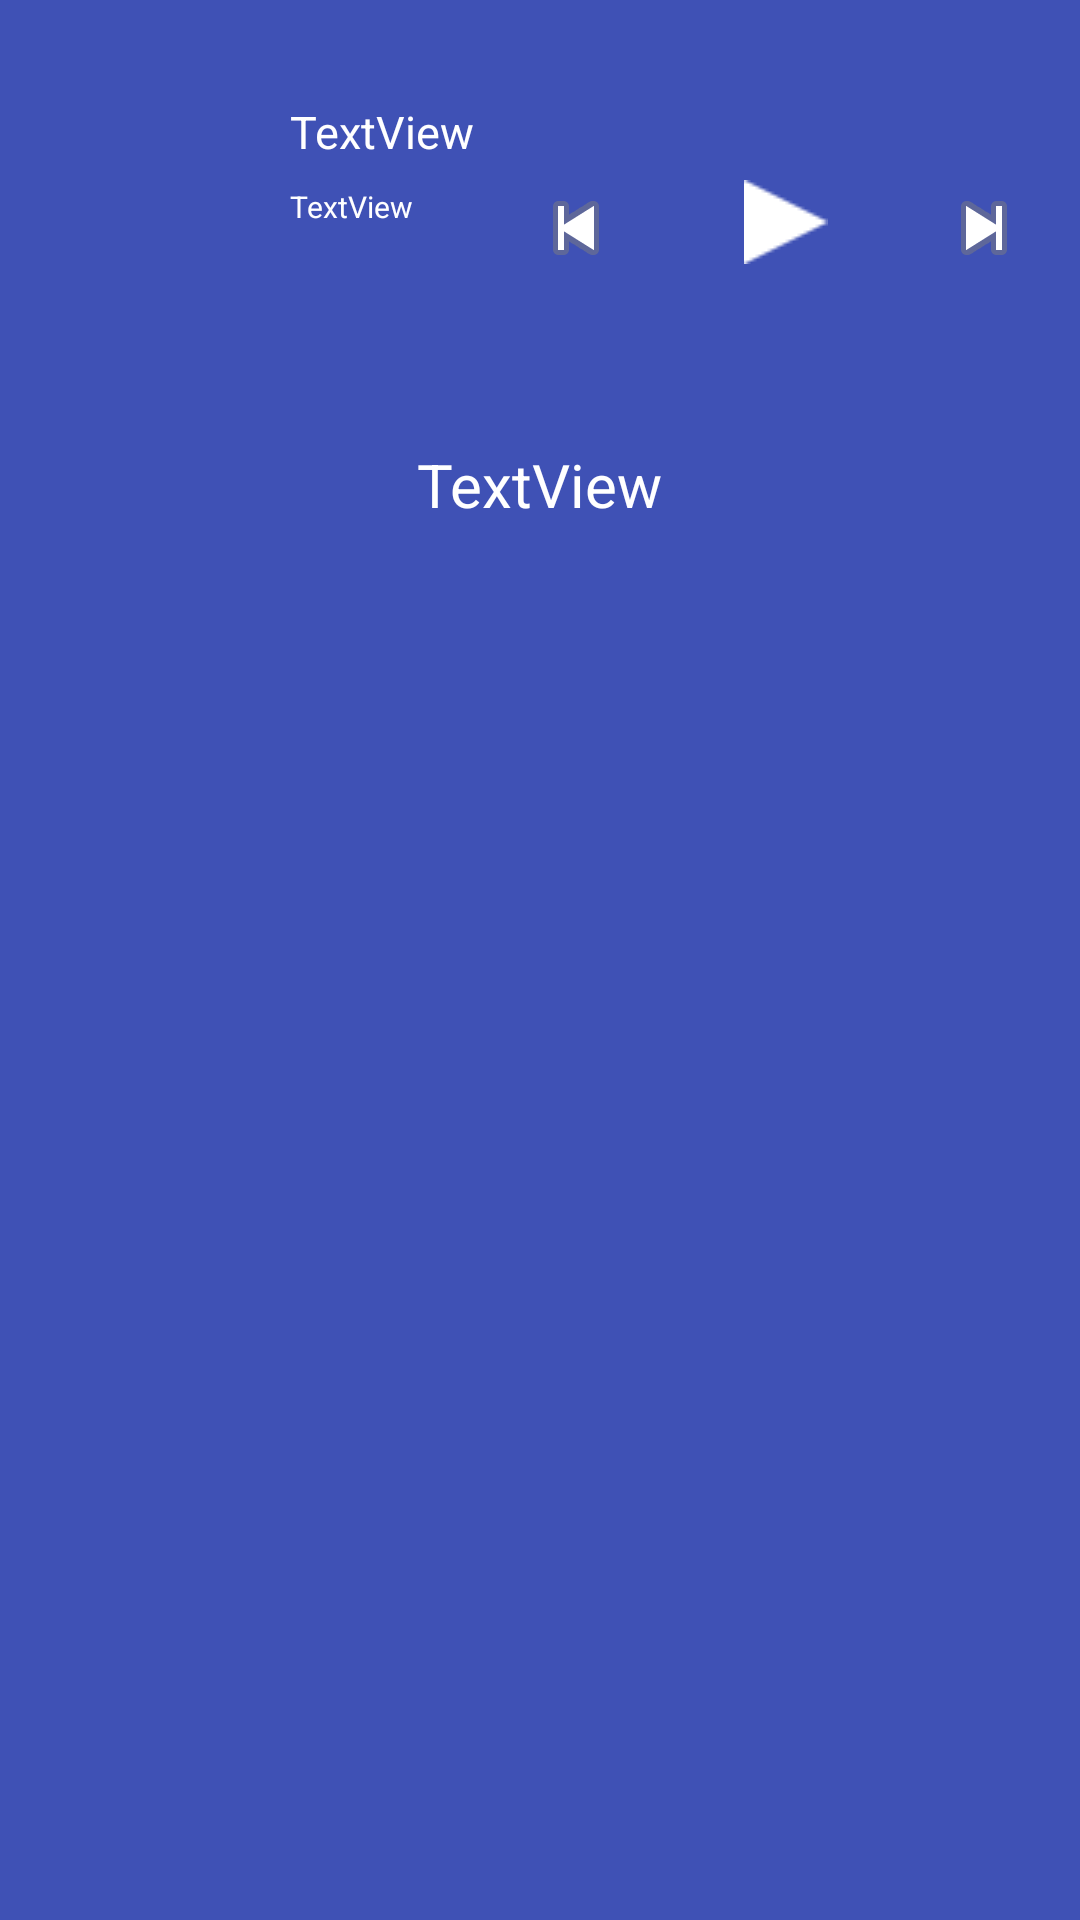

Where to tap for icons on this 1080px×1920px app screen, as (x=x, y=y):
next: (x=984, y=228)
playtri: (x=786, y=222)
previous: (x=576, y=228)
